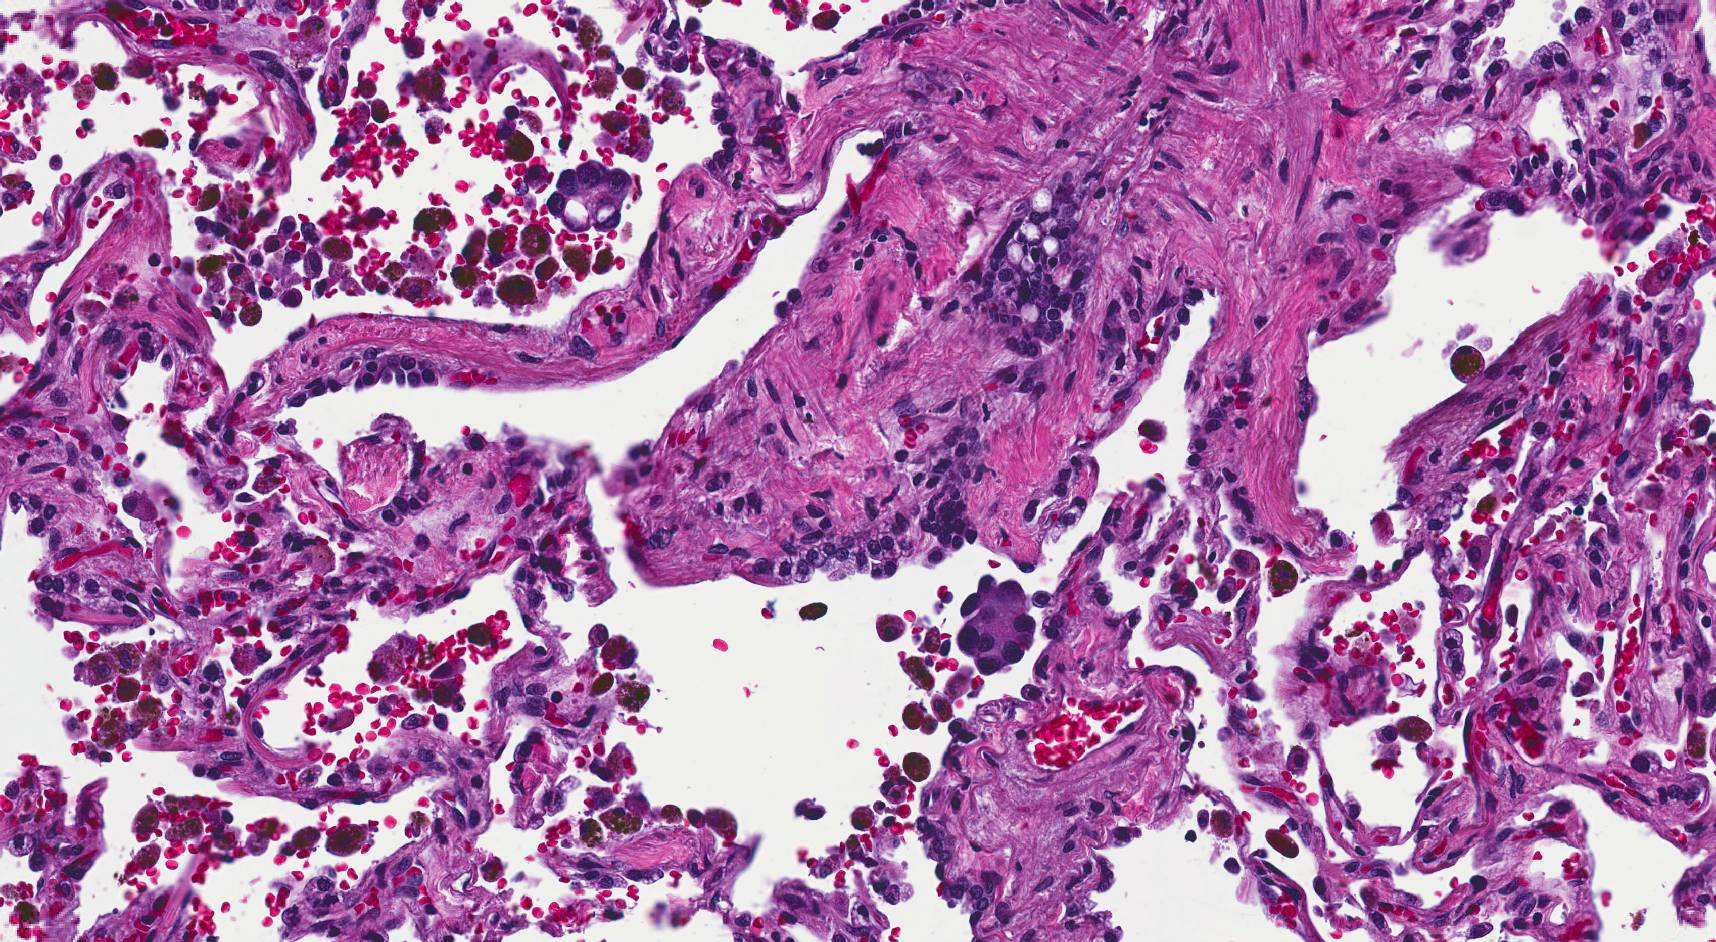stas: (958, 576, 1036, 676), (547, 163, 632, 233)
